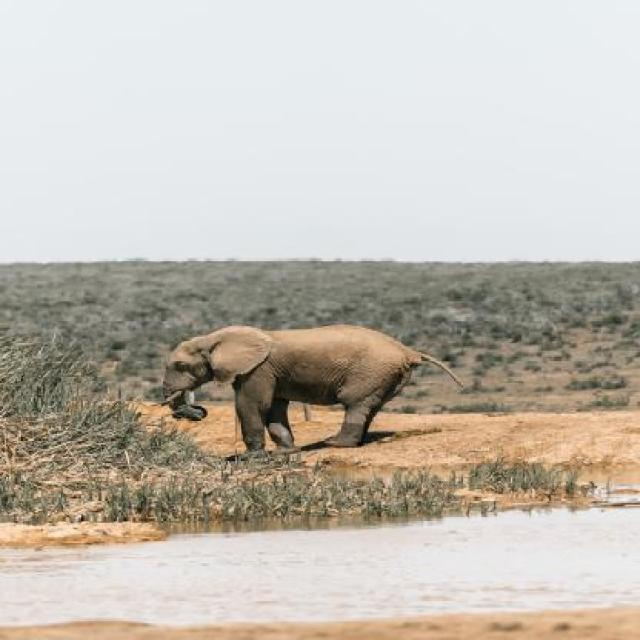Elephant: (153, 318, 470, 462)
